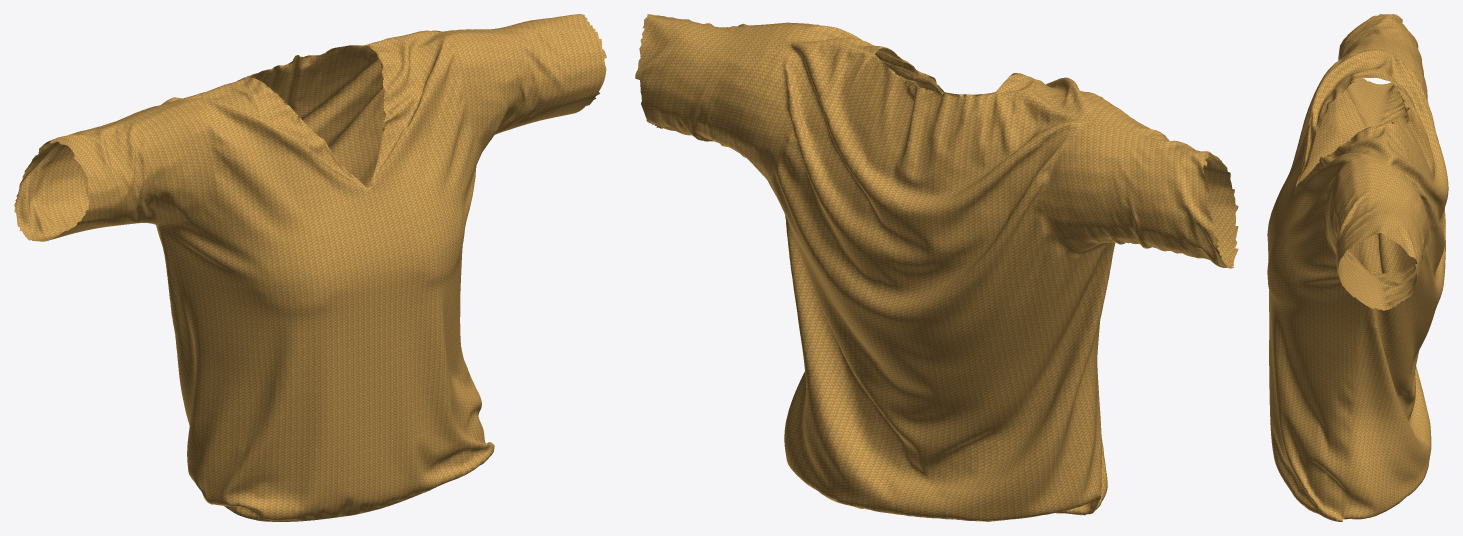
Rendered from female_orange_tshirt_S.glb.
3 renders of one model, left to right at view 1: azimuth 30°, elevation 25°; view 2: azimuth 150°, elevation 25°; view 3: azimuth 270°, elevation 25°, orthographic. The views are drawn at different scales.
Parts seen in each view (by area): view 1: weld_chompa_varon_3b_Material719171_0; view 2: weld_chompa_varon_3b_Material719171_0; view 3: weld_chompa_varon_3b_Material719171_0.
Part boxes in pixels (x1,y1,x2,y2): weld_chompa_varon_3b_Material719171_0: (14, 14, 606, 521); weld_chompa_varon_3b_Material719171_0: (635, 14, 1238, 521); weld_chompa_varon_3b_Material719171_0: (1267, 14, 1448, 521).
Bounding box in the file's own units: 0.6568 × 0.4664 × 0.2129.
Materials: 1 (1 with a texture image).
